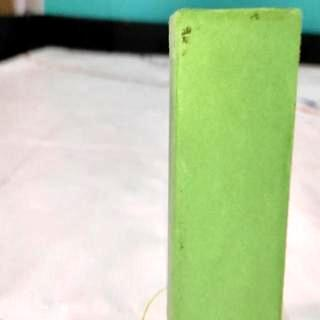greenbox: (168, 8, 300, 320)
